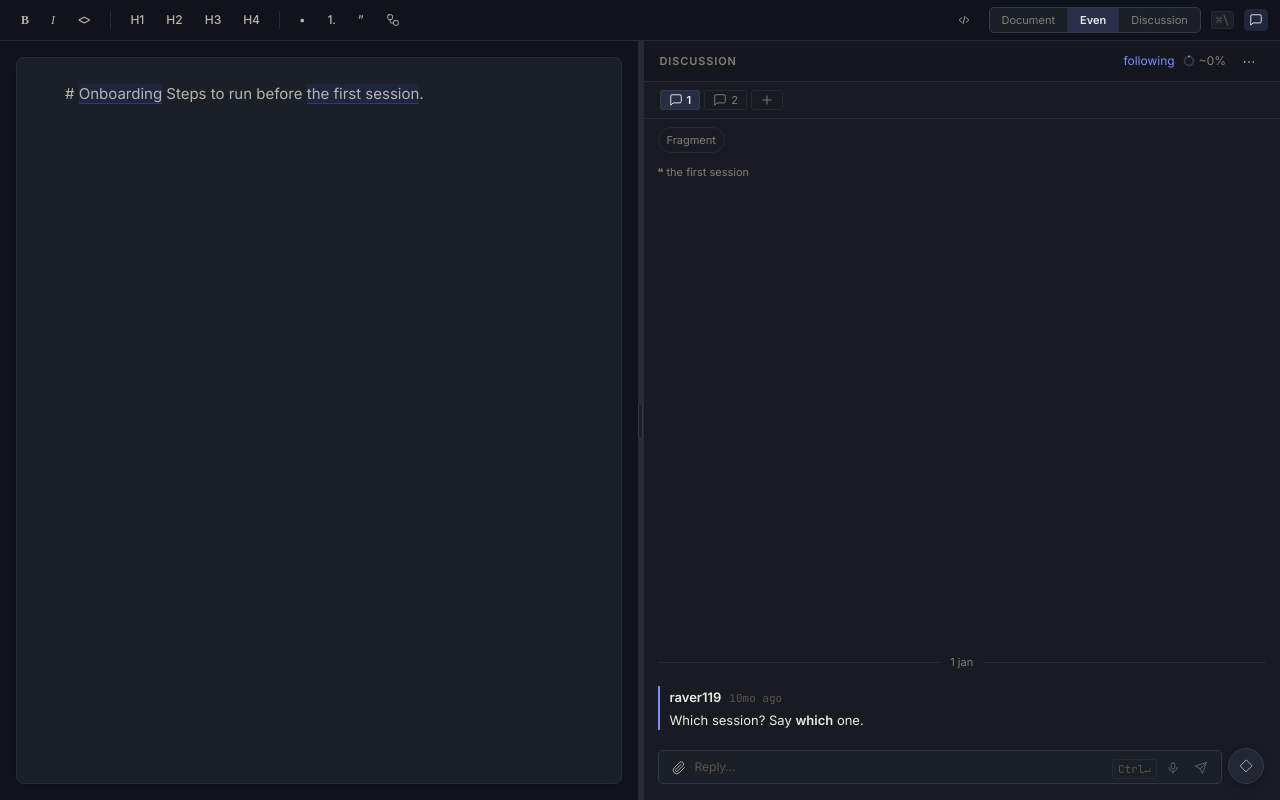
Scenario: CMT-FR-HQNV, CVP-FR-05: the column holds the shared surface, once › CMT-FR-53: renders the chosen discussion as one surface owned by the column
The width and height of the screenshot is (1280, 800).
Expected: the element named "artifact body" is shown, [65, 84, 424, 104]
Click the tab "1" at (680, 100), box [660, 90, 700, 110]
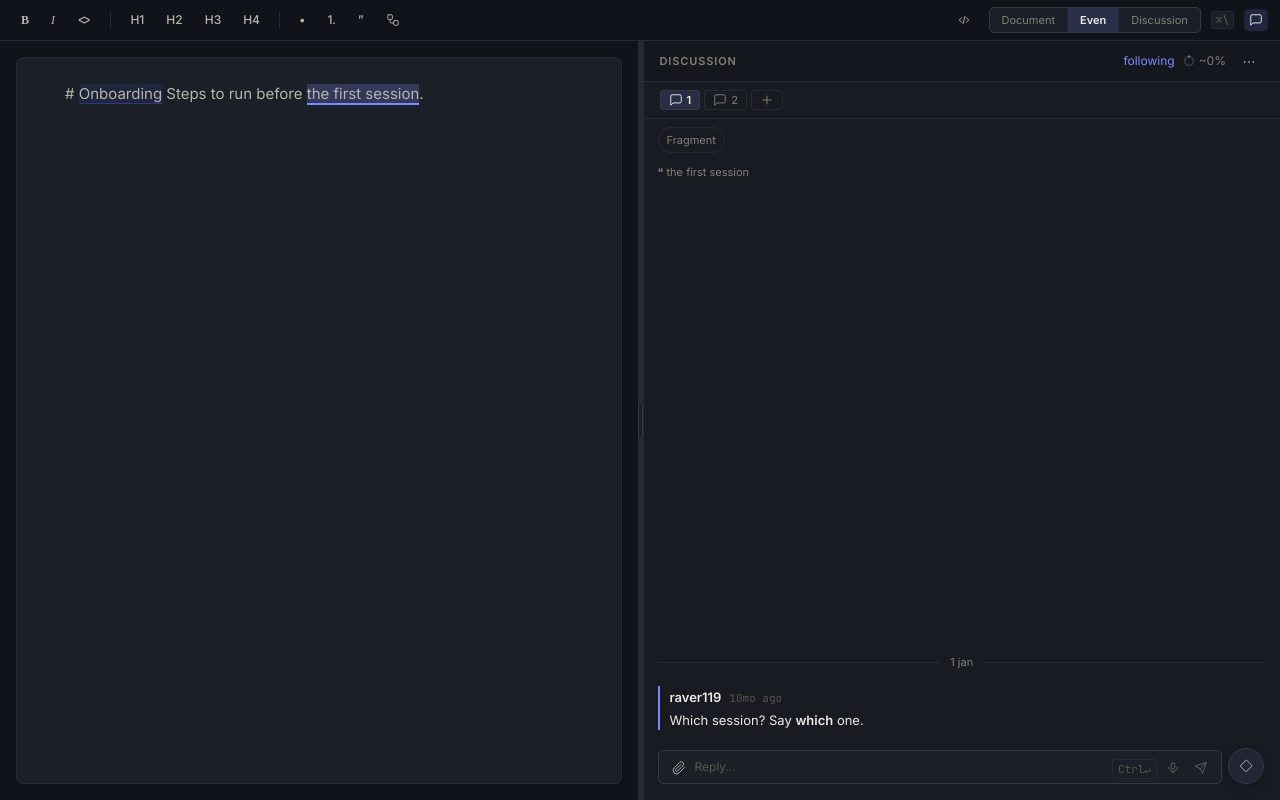
Expected: the number of elements with test id "comment-thread-t1" is 1, [644, 119, 1279, 799]
Click the tab "2" at (726, 100), box [704, 90, 747, 110]
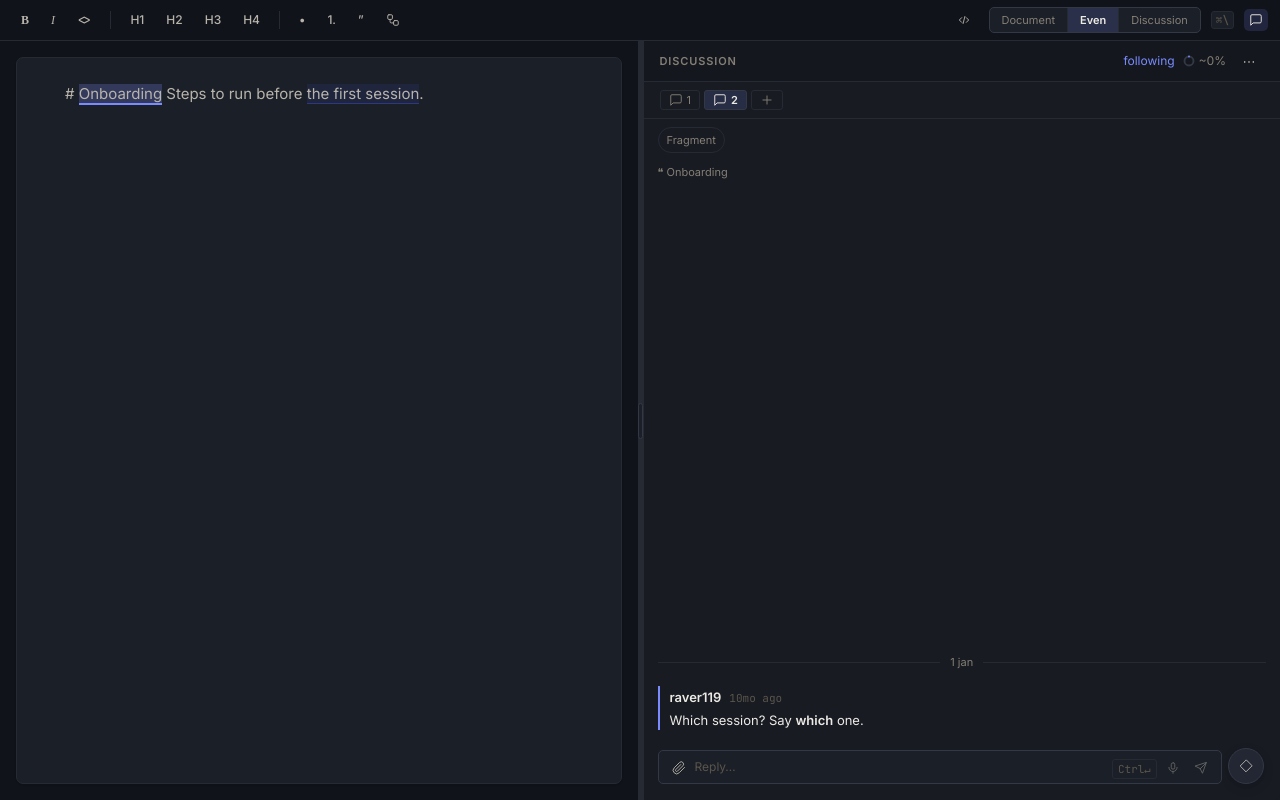
Result: the element with test id "comment-thread-t1" is gone
